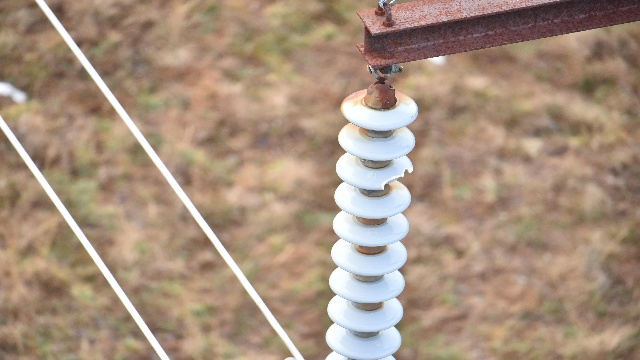broken_local: (378, 164, 418, 189)
insulator_unspecified: (325, 88, 419, 359)
